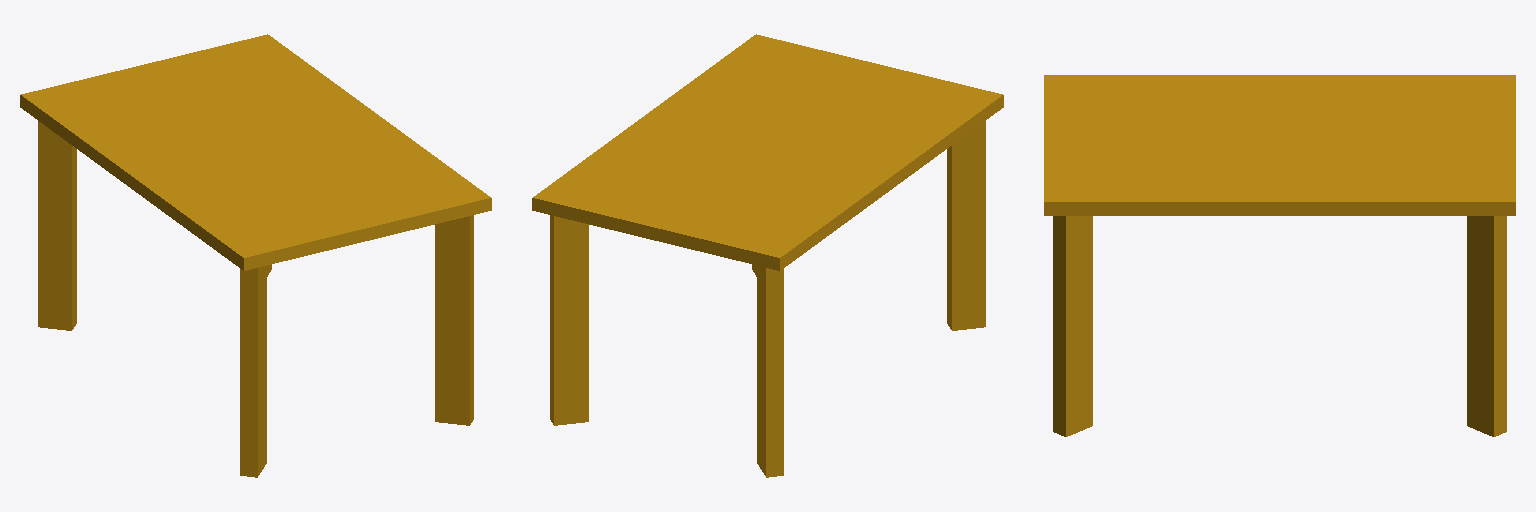
robot.urdf — room73b2-karimoku-table:
<?xml version="1.0"?>
<robot name="room73b2-karimoku-table"
       xmlns:xi="http://www.w3.org/2001/XInclude">
  <gazebo>
    <static>false</static>
  </gazebo>
  <link name="nil_link">
    <visual>
      <origin xyz="0 0 0" rpy="0 -0 0"/>
      <geometry>
        <mesh filename="model://kannna-table/meshes/nil_link_mesh.dae" scale="1 1 1" />
      </geometry>
    </visual>
    <collision>
      <origin xyz="0 0 0" rpy="0 -0 0"/>
      <geometry>
        <mesh filename="model://kannna-table/meshes/nil_link_mesh.dae" scale="1 1 1" />
      </geometry>
    </collision>
    <inertial>
      <!-- changed mass and intertia by y-kawamura 20190501 -->
      <mass value="100.0" />
      <origin xyz="0 0 0" rpy="0 -0 0"/>
      <inertia ixx="1.0" ixy="0" ixz="0" iyy="1.0" iyz="0" izz="1.0"/>
    </inertial>
  </link>
  <gazebo reference="nil_link">
    <kp>1400000.0</kp>
    <kd>280.0</kd>
    <fdir1>1 0 0</fdir1>
    <maxVel>10.0</maxVel>
    <minDepth>0.00</minDepth>
<!-- ToDO 摩擦を調整する -->
    <mu1>1.0</mu1>
    <mu2>1.0</mu2>
  </gazebo>
</robot>

--- Facts derived from the render (not from the file) ---
The picture shows the robot from 3 angles, left to right: view 1: azimuth 30°, elevation 25°; view 2: azimuth 150°, elevation 25°; view 3: azimuth 270°, elevation 25°; orthographic projection.
Model room73b2-karimoku-table with 1 links and 0 joints (none), rooted at nil_link, posed every joint at zero.
Visible links, largest first — view 1: nil_link; view 2: nil_link; view 3: nil_link.
Boxes of the visible links, x1,y1,x2,y2 form: nil_link: [20, 34, 491, 477]; nil_link: [532, 34, 1003, 477]; nil_link: [1044, 75, 1515, 436].
Bounding box of the posed robot: 0.8 × 1.25 × 0.7 m (x, y, z).
Meshes: 1 distinct files referenced, 1 mesh visuals loaded (1 Collada DAE).
